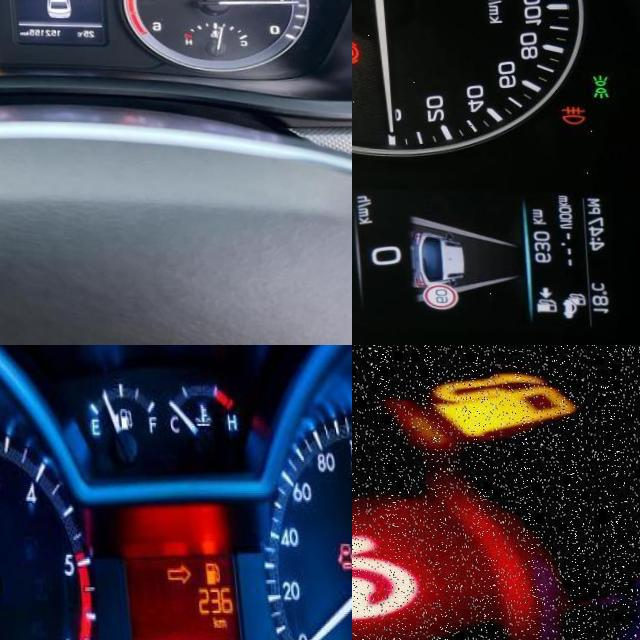Electronic Power Steering: (352, 515, 439, 640)
